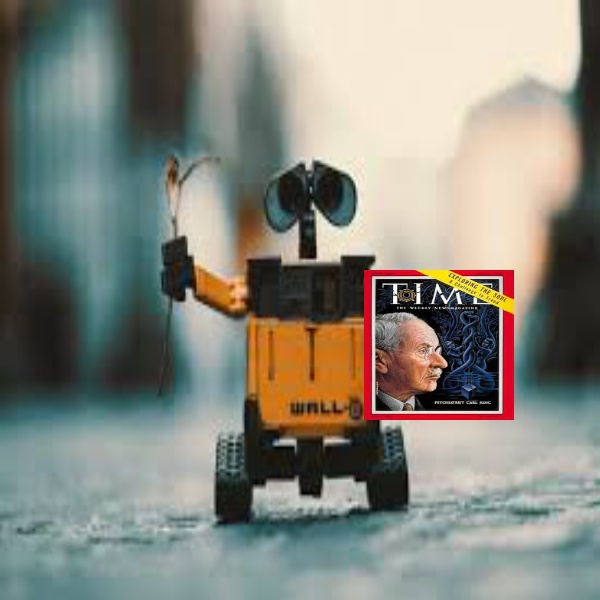time_cover: (360, 264, 512, 417)
